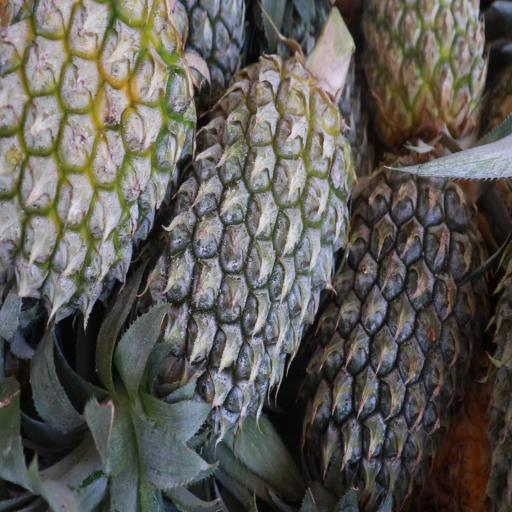------------------------------: (0, 1, 197, 295), (367, 0, 490, 137)
